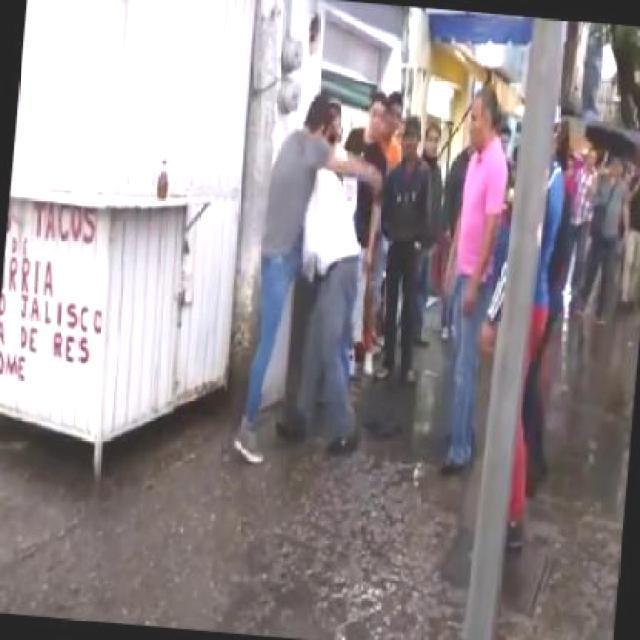fight: (237, 89, 391, 462)
non-fight: (426, 86, 517, 468), (368, 115, 439, 378)
